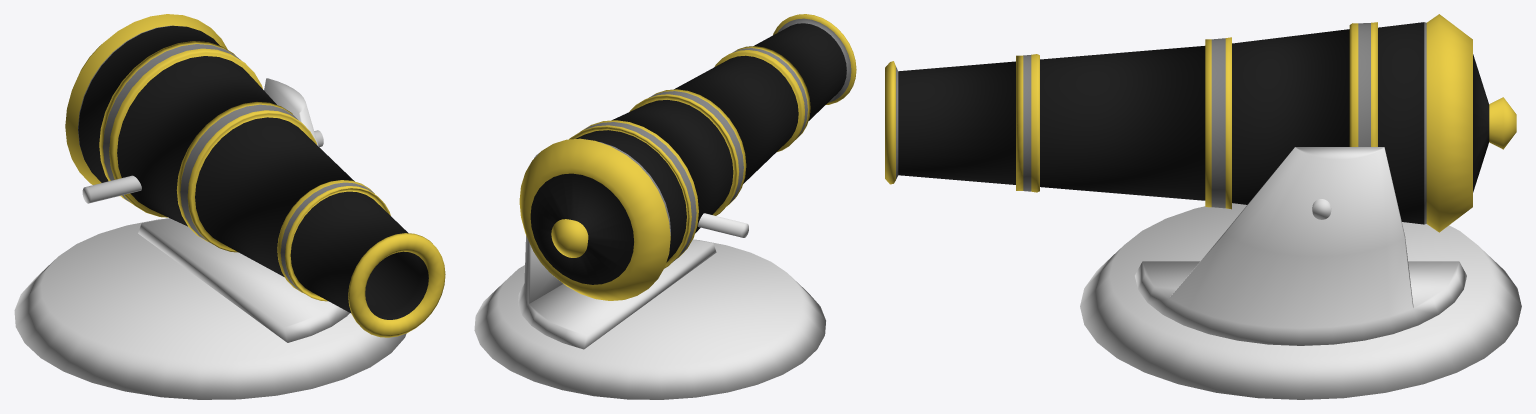
The model's file is cannon.dae.
3 renders of one model, left to right at view 1: azimuth 30°, elevation 25°; view 2: azimuth 150°, elevation 25°; view 3: azimuth 270°, elevation 25°, orthographic. The views are drawn at different scales.
Visible parts, largest first — view 1: Cylinder, Cylinder.001, Circle, Cylinder.002; view 2: Cylinder, Cylinder.001, Circle, Cylinder.002; view 3: Cylinder, Circle, Cylinder.001.
Boxes of the visible parts, box(x1,y1,x2,y2) form: Cylinder: box(65, 14, 445, 337); Cylinder.001: box(14, 219, 406, 399); Circle: box(138, 78, 349, 342); Cylinder.002: box(82, 130, 323, 203); Cylinder: box(519, 14, 856, 300); Cylinder.001: box(474, 239, 825, 399); Circle: box(518, 153, 716, 349); Cylinder.002: box(698, 213, 748, 237); Cylinder: box(885, 14, 1516, 232); Circle: box(1135, 147, 1466, 345); Cylinder.001: box(1080, 203, 1521, 399).
Bounding box in the file's own units: 2.53 × 3.65 × 1.79.
